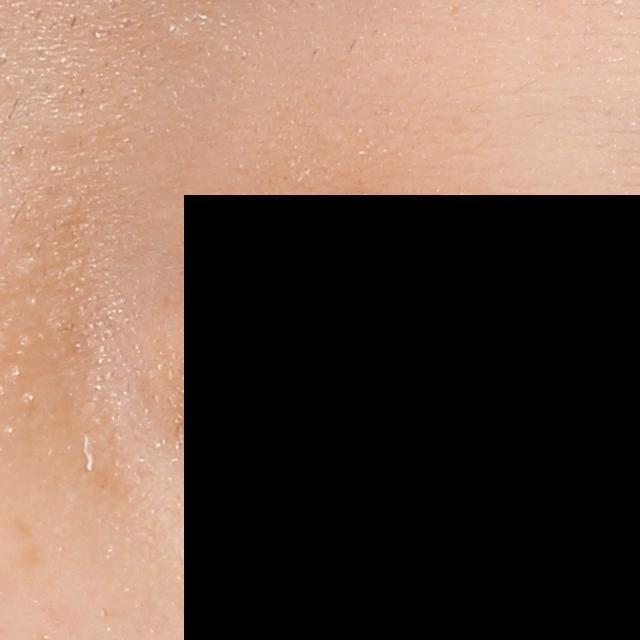melasma: (14, 516, 42, 574)
